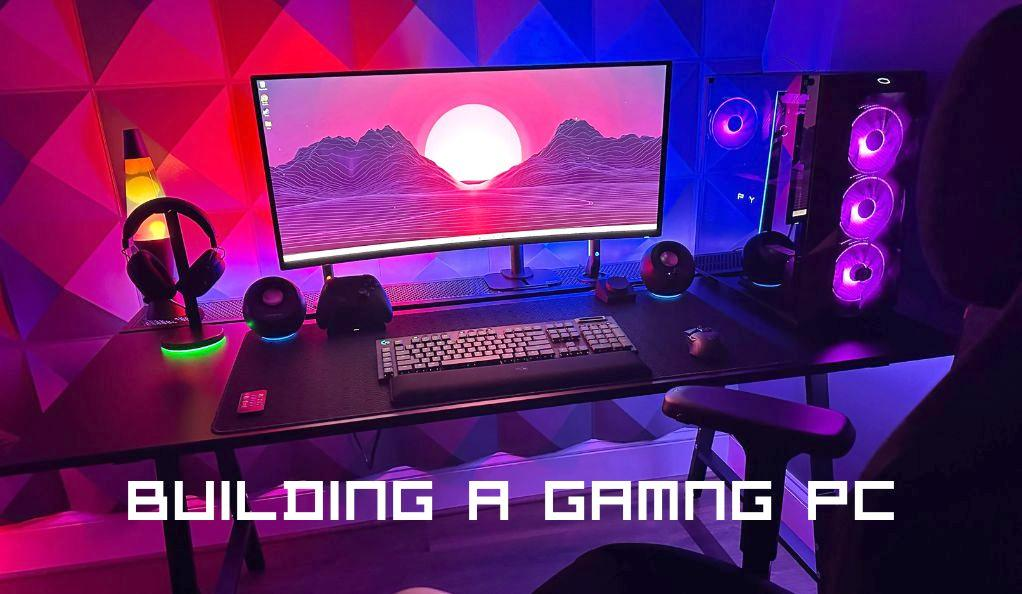keyboard: (367, 309, 644, 378)
monitor: (228, 56, 679, 255)
mouse: (678, 314, 733, 369)
pc: (692, 56, 947, 345)
